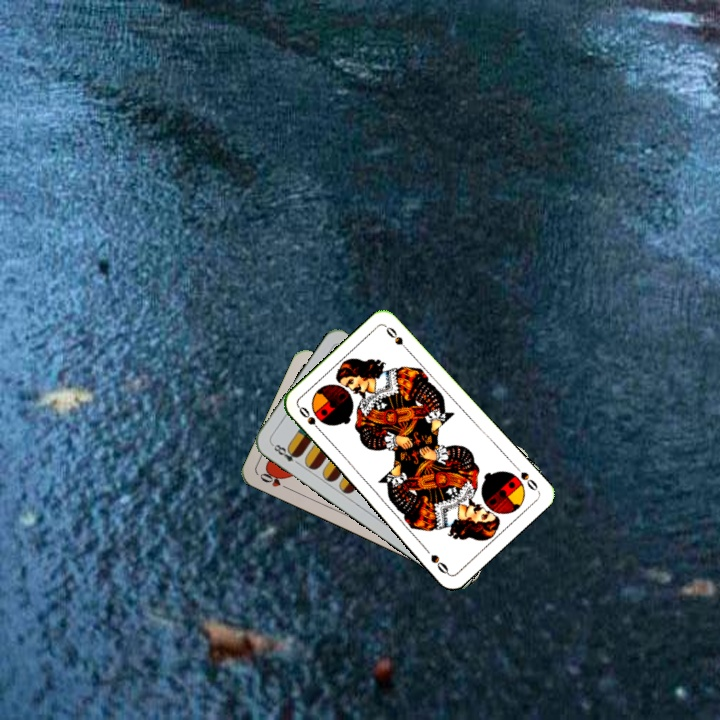E8: (268, 440, 303, 468)
HO: (256, 467, 293, 493)
SO: (295, 402, 326, 436), (510, 461, 541, 494)
